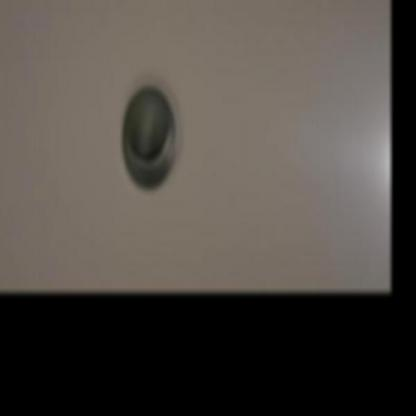light_off: (105, 43, 190, 212)
